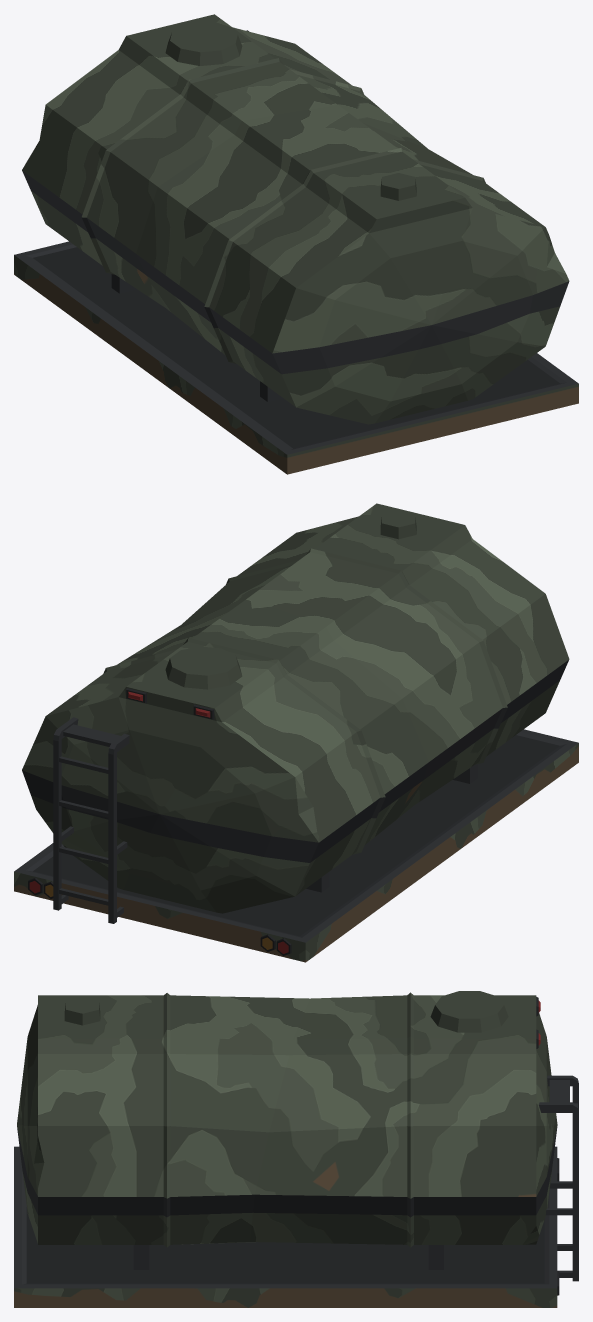
Rendered from SM_Veh_Truck_01_Tanker.fbx.
The picture shows the model from 3 angles, top to bottom: view 1: azimuth 30°, elevation 25°; view 2: azimuth 150°, elevation 25°; view 3: azimuth 270°, elevation 25°; orthographic projection.
Visible parts, largest first — view 1: SM_Veh_Truck_01_Tanker; view 2: SM_Veh_Truck_01_Tanker; view 3: SM_Veh_Truck_01_Tanker.
Boxes of the visible parts, <box> form: SM_Veh_Truck_01_Tanker: <box>14,14,578,474</box>; SM_Veh_Truck_01_Tanker: <box>14,503,578,962</box>; SM_Veh_Truck_01_Tanker: <box>14,991,578,1307</box>.
Bounding box in the file's own units: 264 × 194 × 427.
